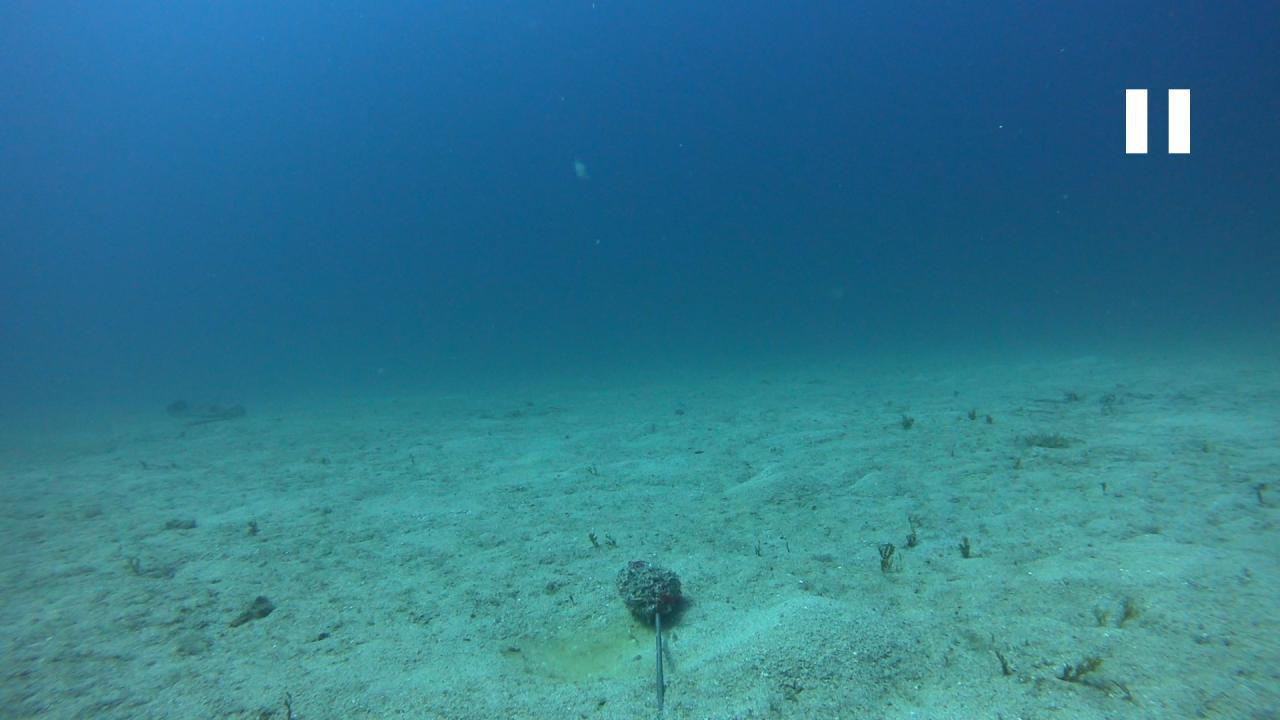dasyatis: (164, 398, 245, 417)
